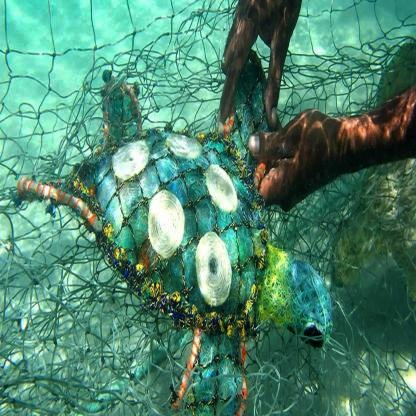net: (5, 6, 416, 416)
